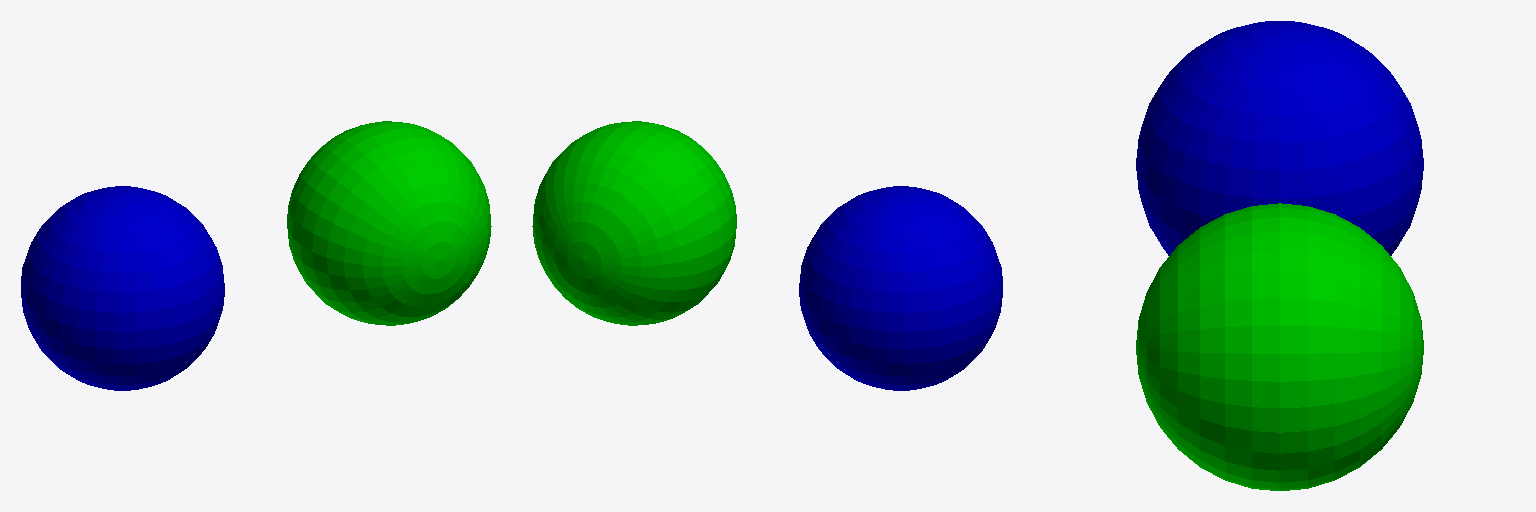
URDF robot description (A_vs_B):
<?xml version="1.0"?>
<robot name="A_vs_B">
  <material name="blue">
    <color rgba="0 0 0.8 .5"/>
  </material>
  <material name="green">
    <color rgba="0 0.8 0 .5"/>
  </material>
  <link name="A">
    <visual>
      <geometry>
        <sphere radius="1"/>
      </geometry>
      <origin rpy="0.0 0 0" xyz="-1.5 0 0"/>
      <material name="blue"/>
    </visual>
  </link>
  <link name="B">
    <visual>
      <geometry>
        <mesh filename="package://exotica_examples/test/resources/uvsphere.obj"/>
      </geometry>
      <origin rpy="0 0 0" xyz="1.5 0 0"/>
      <material name="green"/>
    </visual>
  </link>
  <joint name="joint1" type="revolute">
    <axis xyz="0 0 1"/>
    <limit effort="1" lower="-1" upper="1" velocity="1"/>
    <origin rpy="0 0 0" xyz="0 0 0"/>
    <parent link="A"/>
    <child link="B"/>
  </joint>
</robot>

--- Facts derived from the render (not from the file) ---
The picture shows the robot from 3 angles, left to right: view 1: azimuth 30°, elevation 25°; view 2: azimuth 150°, elevation 25°; view 3: azimuth 270°, elevation 25°; orthographic projection.
Model A_vs_B with 2 links and 1 joints (1 revolute), rooted at A, posed all joints at 0.
Links seen in each view (by area): view 1: A, B; view 2: A, B; view 3: B, A.
Boxes of the visible links, x1,y1,x2,y2 form: A: (21,186,224,390); B: (287,121,491,325); A: (799,186,1002,390); B: (532,121,736,325); B: (1136,203,1423,490); A: (1136,21,1423,255).
Bounding box of the posed robot: 5 × 2 × 2 m (x, y, z).
Meshes: 1 distinct files referenced, 1 mesh visuals loaded (1 OBJ).